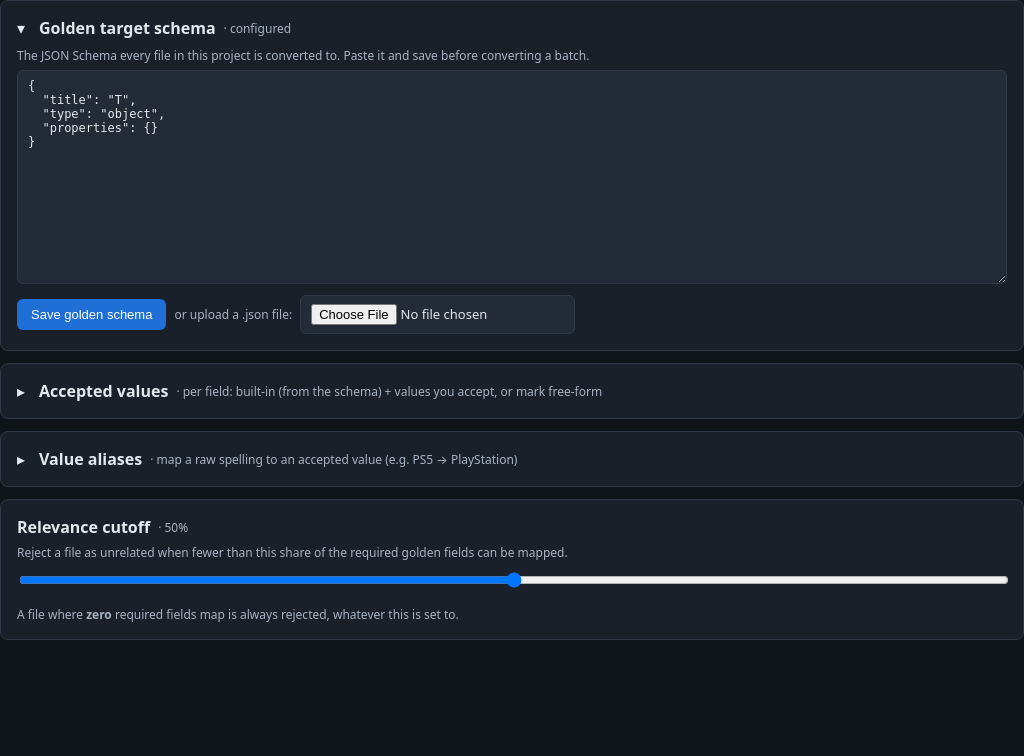
Test: GoldenSchemaPanel collapsible sections › each section toggles independently (opening aliases does not close schema)
What coordinates should you click on to do the following:
click the button that starts with "Value aliases"
I would click on:
 (512, 459)
Its box is top-left (17, 448), bottom-right (1007, 470).
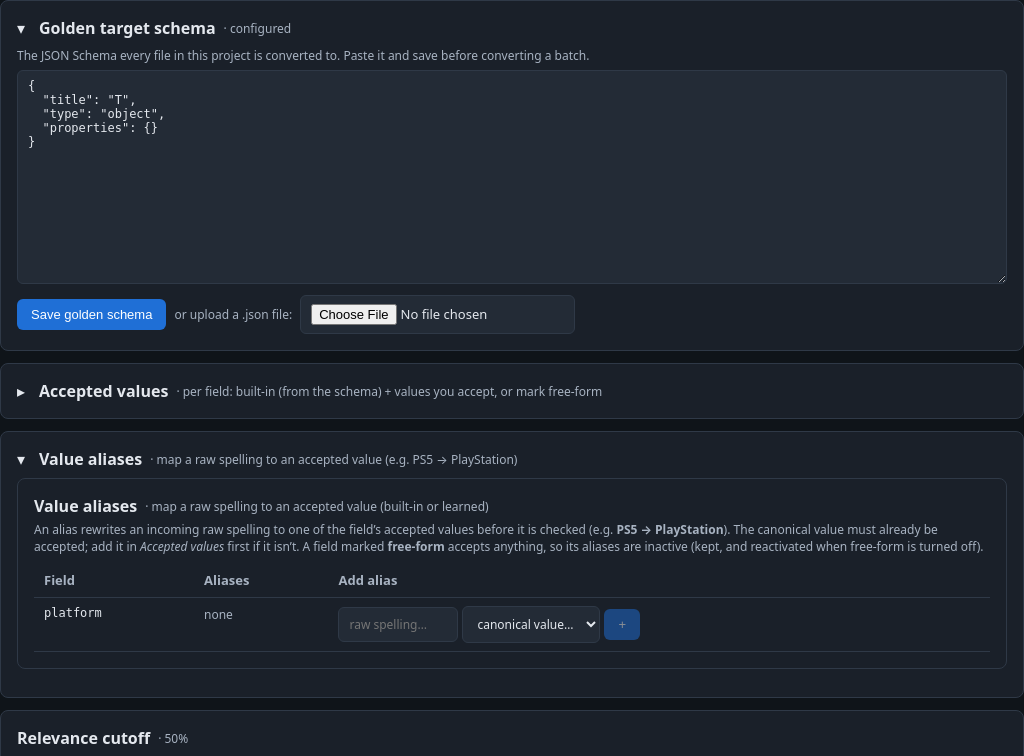
Result: the button that starts with "Value aliases" is expanded at top-left (17, 448), bottom-right (1007, 470)
